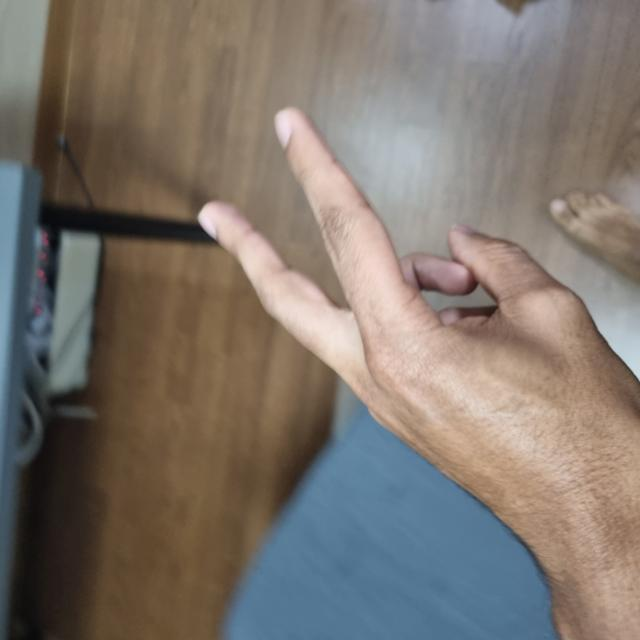Scissors: (79, 205, 527, 639)
